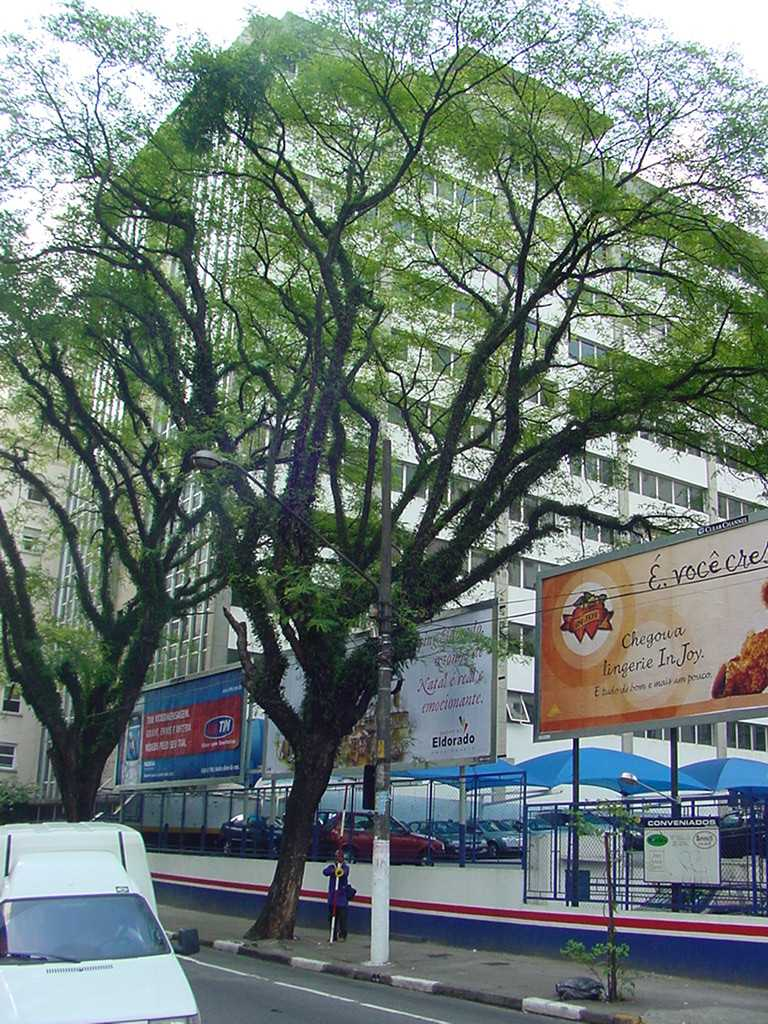stem: (236, 739, 333, 941)
stick: (320, 782, 358, 944)
tree: (63, 5, 768, 946), (3, 213, 259, 818)
